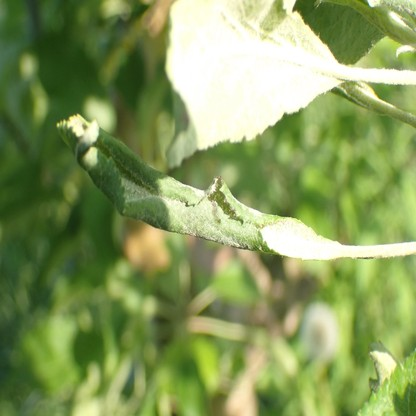powder: (56, 113, 343, 261)
